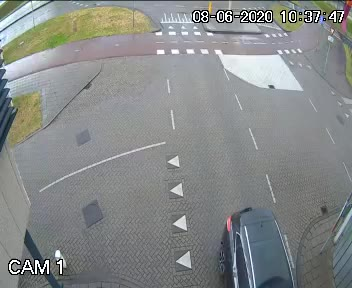car: (198, 197, 293, 288)
